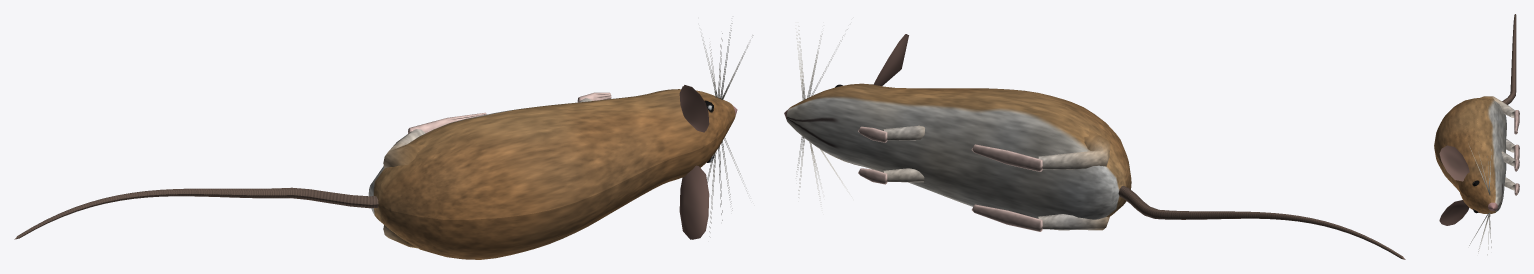
Rendered from rat_mouse.obj.
3 renders of one model, left to right at view 1: azimuth 30°, elevation 25°; view 2: azimuth 150°, elevation 25°; view 3: azimuth 270°, elevation 25°, orthographic. The views are drawn at different scales.
Visible parts, largest first — view 1: rat_mouse; view 2: rat_mouse; view 3: rat_mouse.
Boxes of the visible parts, box(x1,y1,x2,y2) form: rat_mouse: box(14, 23, 753, 259); rat_mouse: box(784, 26, 1405, 259); rat_mouse: box(1434, 14, 1519, 255).
Size of the model in its own units: 0.1804 by 0.0511 by 0.036.
1 material, 1 textured.
